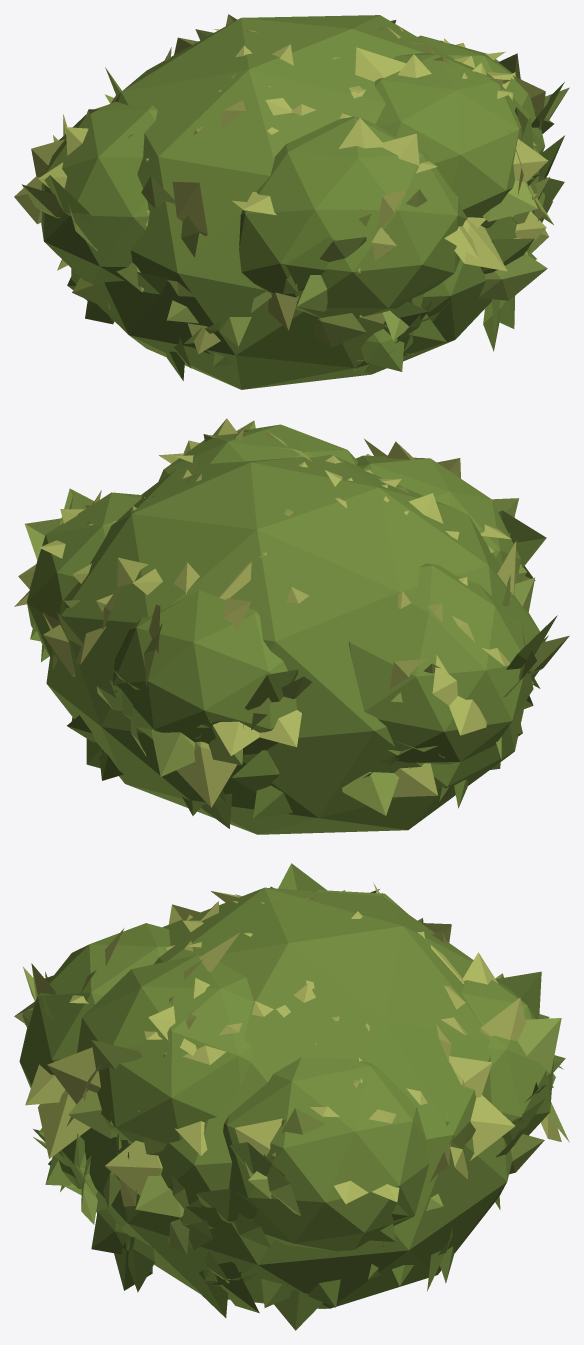
3 views of the same model, one above another, from view 1: azimuth 30°, elevation 25°; view 2: azimuth 150°, elevation 25°; view 3: azimuth 270°, elevation 25° (orthographic). The views are drawn at different scales.
Parts seen in each view (by area): view 1: crown; view 2: crown; view 3: crown.
Boxes of the visible parts, bbox=[...] form: crown: bbox=[14, 14, 569, 389]; crown: bbox=[14, 418, 569, 834]; crown: bbox=[14, 863, 569, 1330].
Size of the model in its own units: 1.63 by 0.9188 by 1.37.
